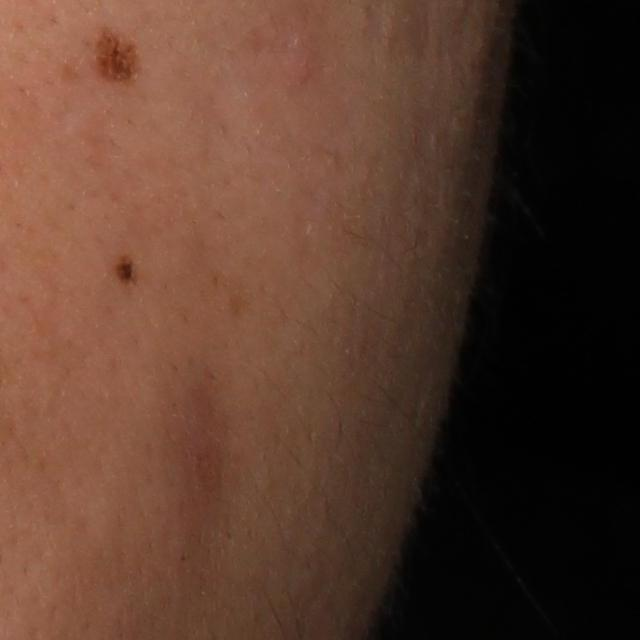nevus: (93, 23, 149, 91), (113, 257, 140, 286)
